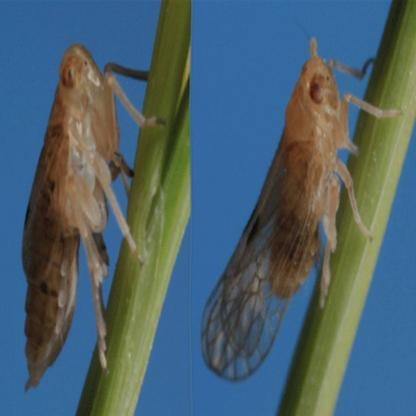brown-planthopper: (200, 40, 359, 384), (21, 44, 134, 392)
